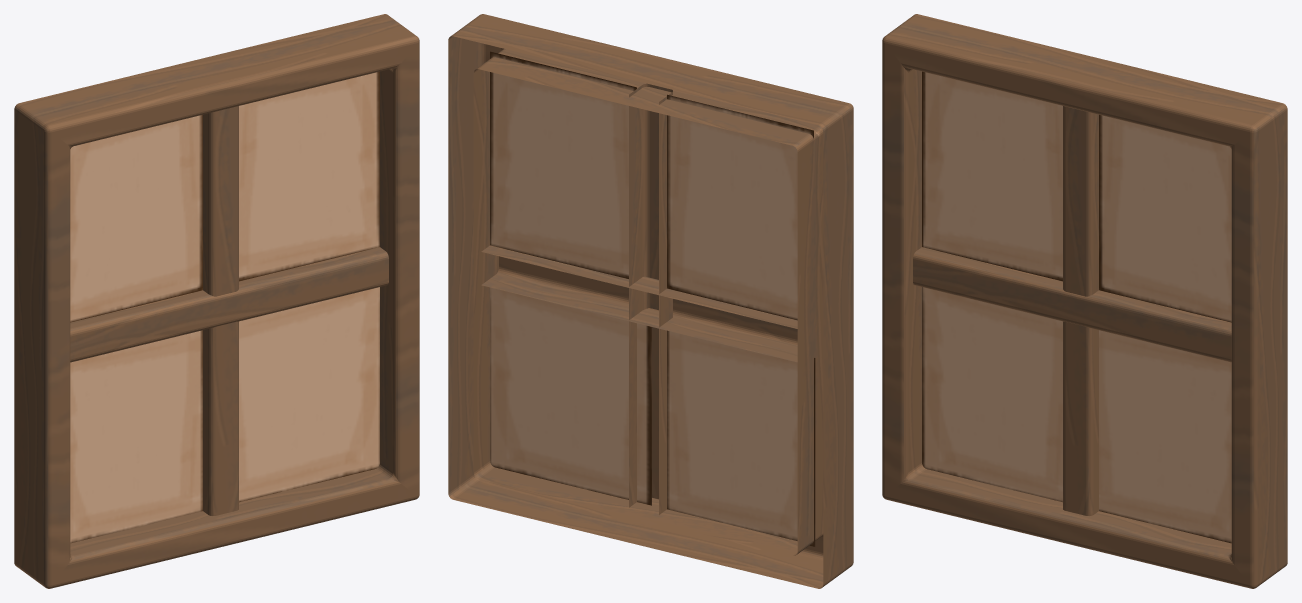
The model's file is janela-casa-rico.fbx.
The picture shows the model from 3 angles, left to right: view 1: azimuth 30°, elevation 25°; view 2: azimuth 150°, elevation 25°; view 3: azimuth 330°, elevation 25°; orthographic projection.
Visible parts, largest first — view 1: Janela_Quadrado_rico; view 2: Janela_Quadrado_rico; view 3: Janela_Quadrado_rico.
Part boxes in pixels (box(x1,y1,x2,y2)): Janela_Quadrado_rico: box(14, 14, 419, 588); Janela_Quadrado_rico: box(448, 14, 853, 588); Janela_Quadrado_rico: box(882, 14, 1287, 588).
Size of the model in its own units: 98.39 by 116 by 14.85.
